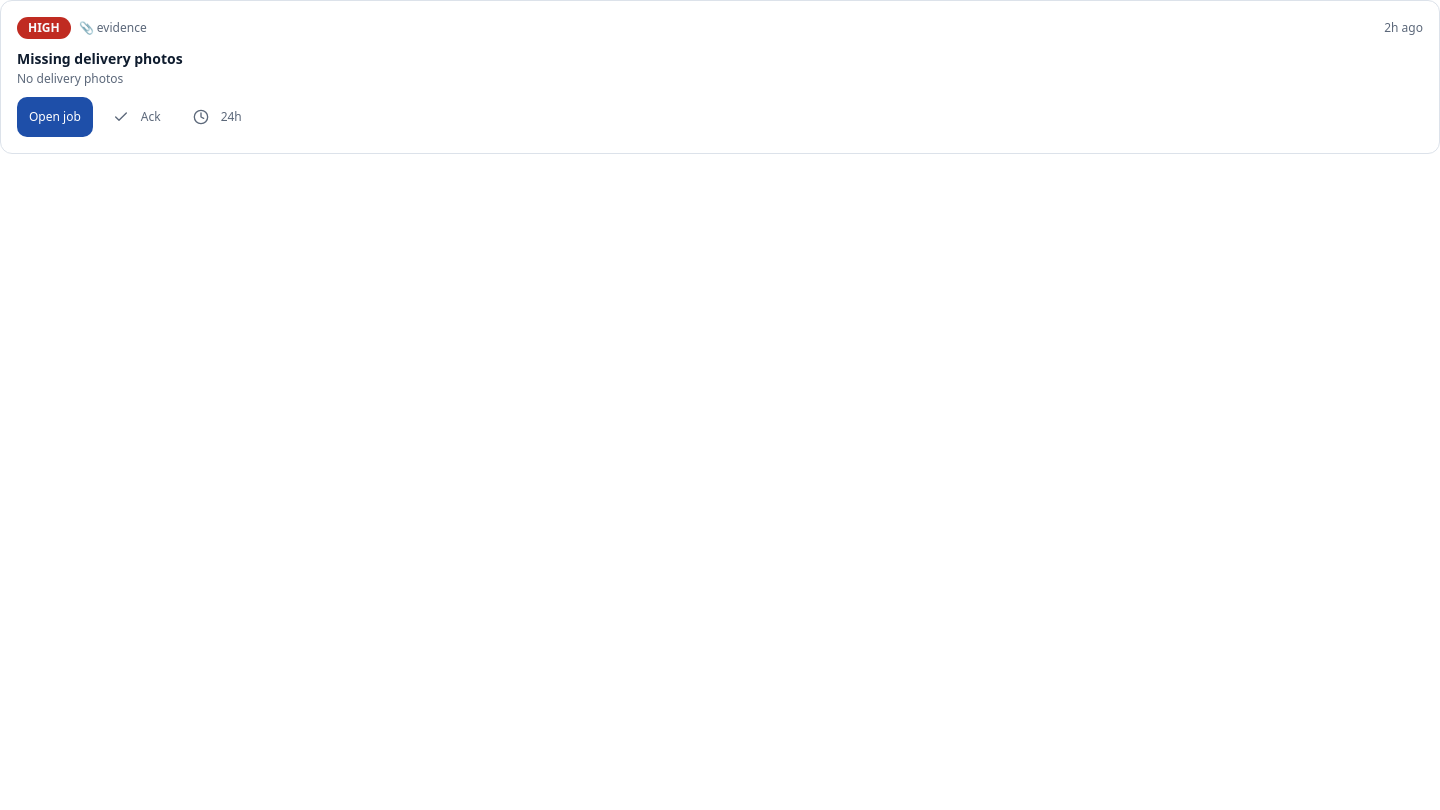
AttentionQueue acknowledgements › refuses when neither the job nor the organisation is known
Later steps or results of the test are not shown.
Click the button "Ack" at [137, 117], box [101,99,173,135]
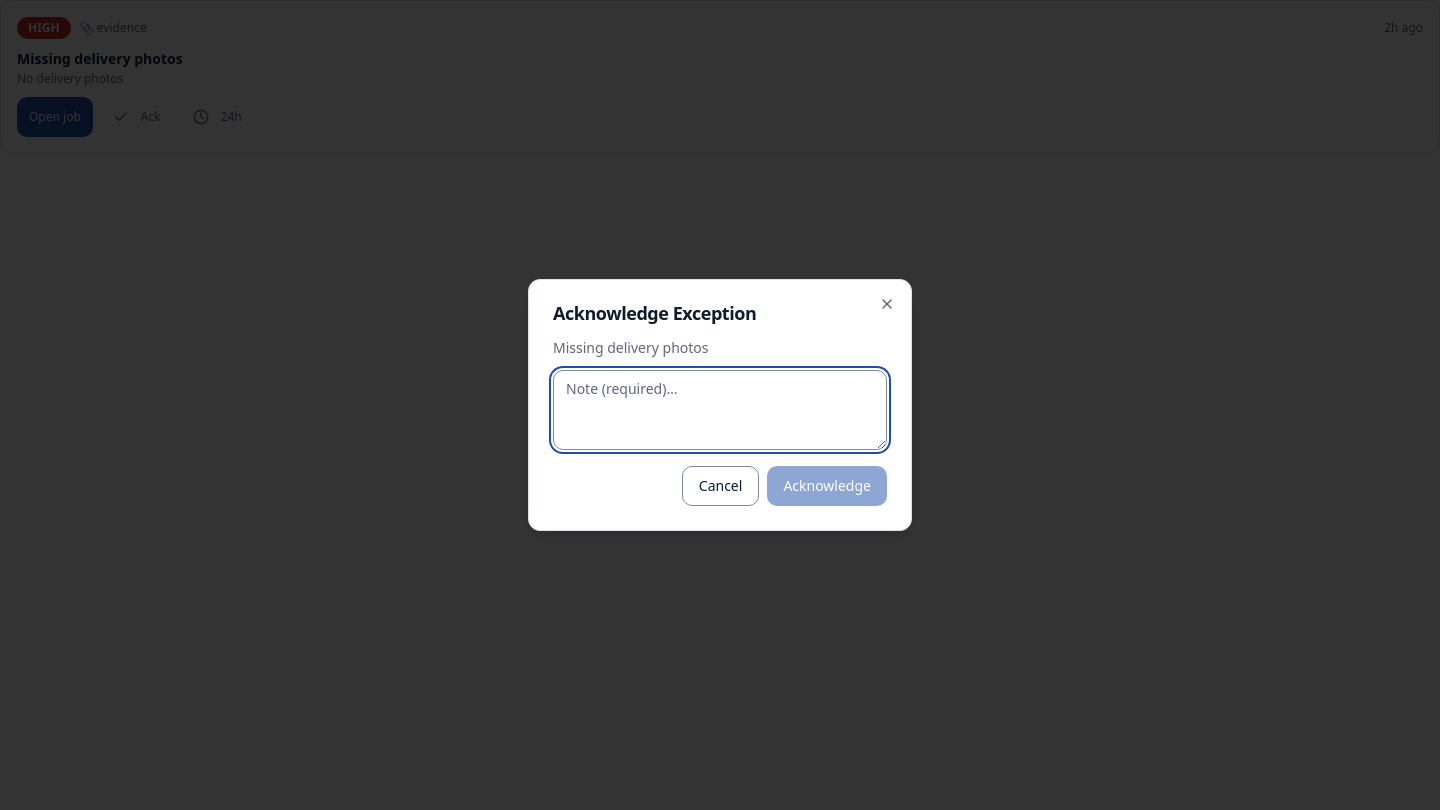
Result: the button "Acknowledge" is disabled at [767,466,887,506]
